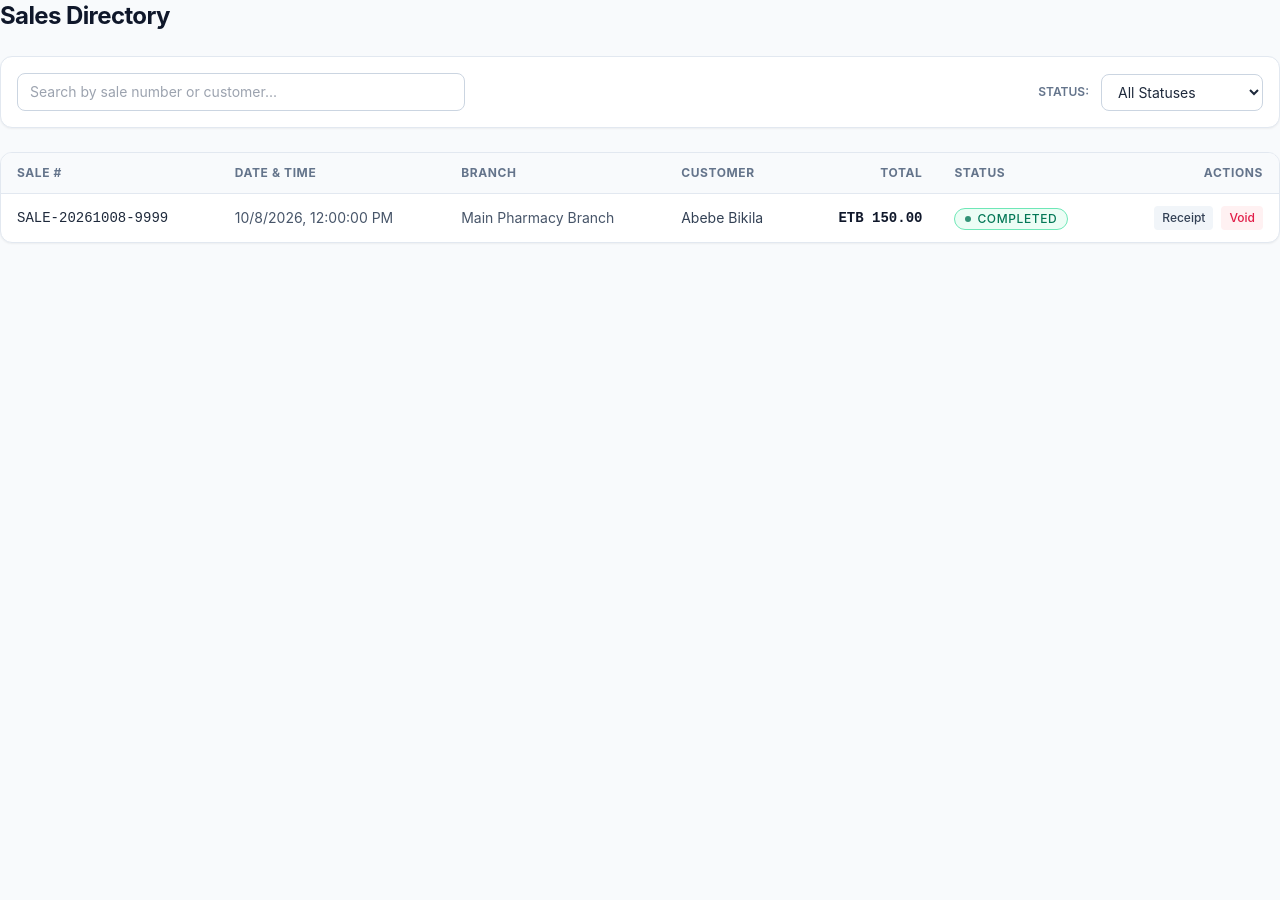
Test: POS & Sales Pages › Sales history page renders and provides receipt view and void dialog
Expected: the text "SALE-20261008-9999" is shown, [1, 194, 219, 242]
Expected: the text "Abebe Bikila" is shown, [665, 194, 801, 242]
// Click Receipt button
Click the button "Receipt": x=1184, y=218 [1154, 206, 1214, 230]
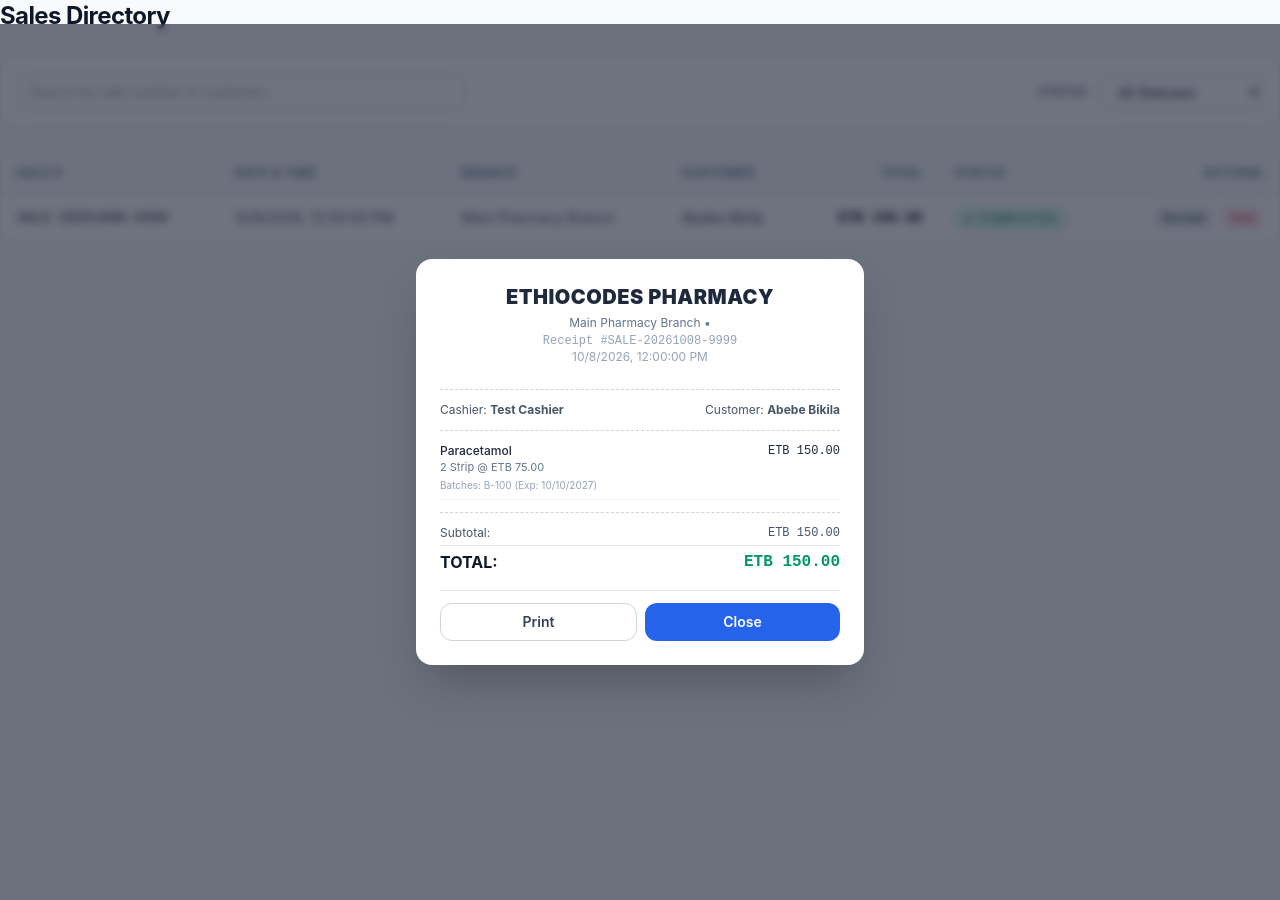
Now the heading "ETHIOCODES PHARMACY" is shown, box [506, 285, 774, 309]
Now the text "Batches: B-100 (Exp: 10/10/2027)" is shown, box [440, 479, 597, 491]
// Close receipt modal
Click the button "Close": x=742, y=622 [645, 603, 840, 641]
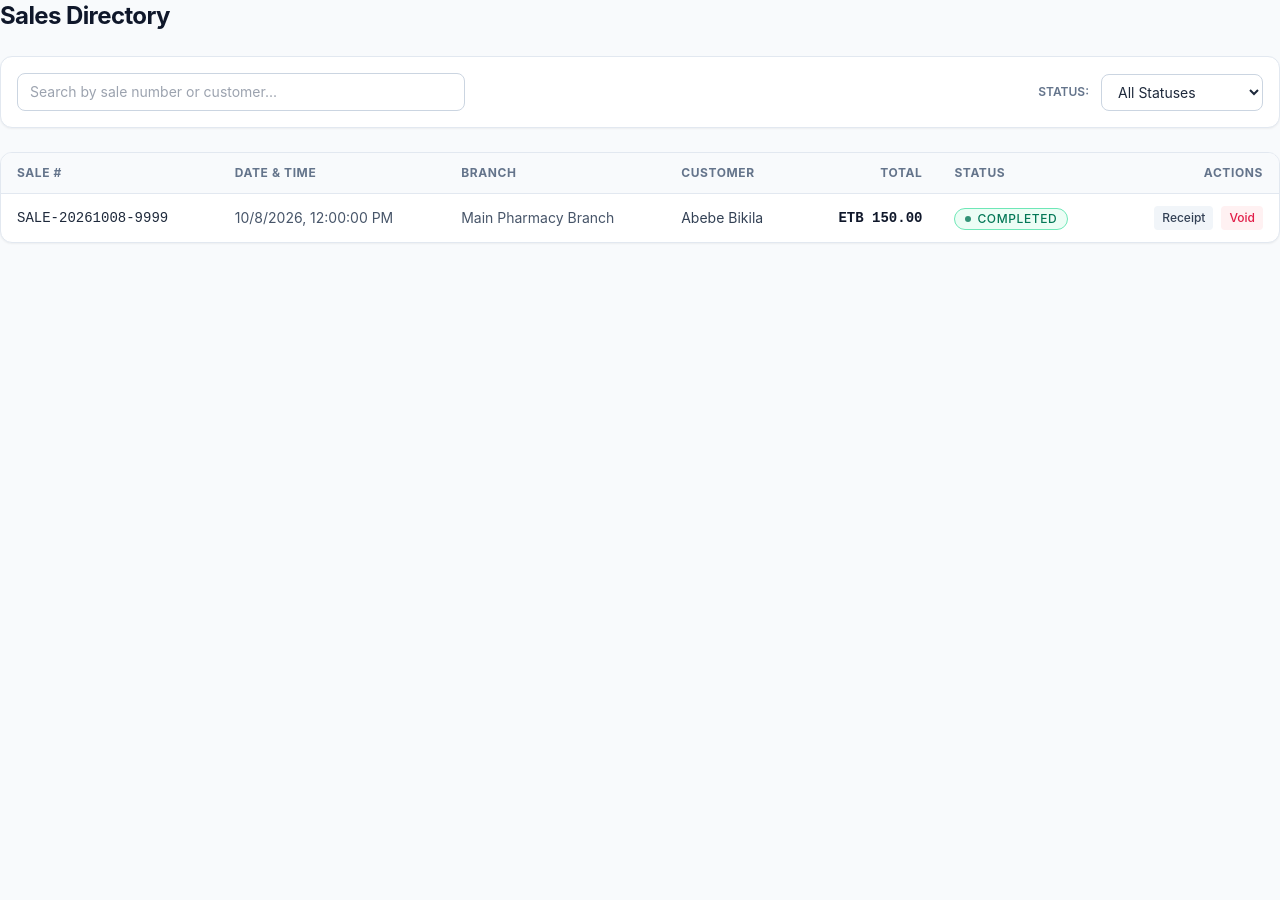
// Click Void button
Click the button "Void": x=1242, y=218 [1222, 206, 1263, 230]
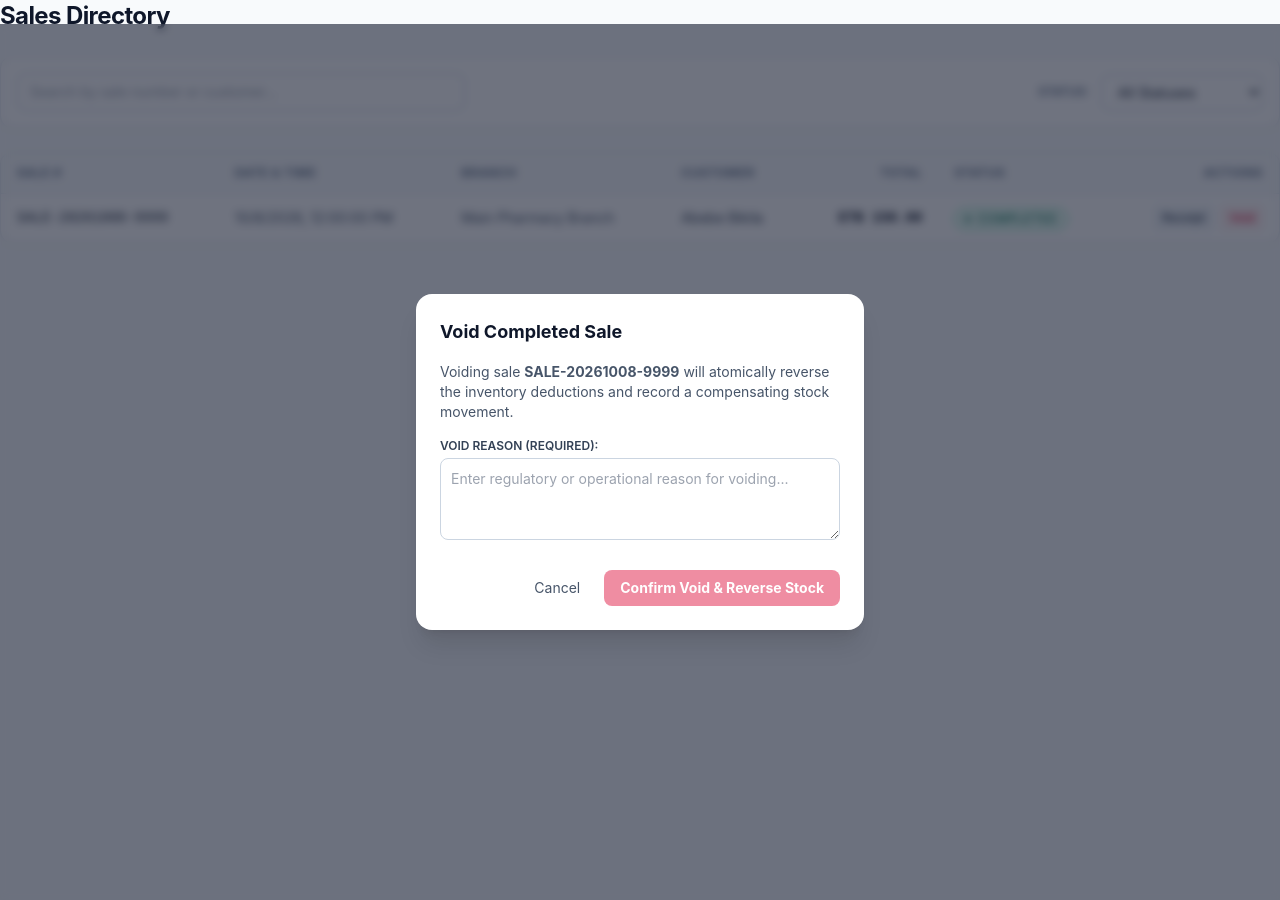
Now the heading "Void Completed Sale" is shown, box [440, 321, 622, 342]
Now the text box with placeholder "Enter regulatory or operational reason for voiding..." is shown, box [440, 458, 840, 540]
